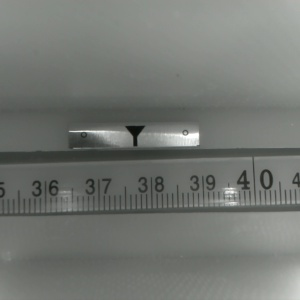0: (259, 169, 273, 190)
3: (30, 180, 41, 197), (190, 175, 200, 191), (137, 177, 147, 193), (84, 179, 94, 194)
4: (237, 170, 251, 190), (291, 172, 300, 188)
6: (47, 180, 58, 196)
7: (101, 178, 112, 194)
8: (153, 176, 163, 192)
9: (205, 175, 215, 191)
finger: (123, 126, 145, 147)
